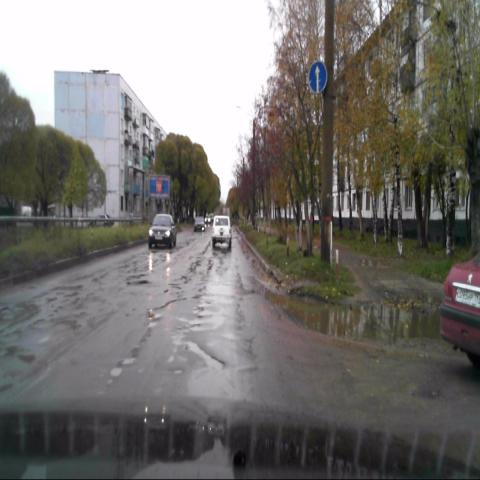4_1_1: (309, 60, 327, 96)
